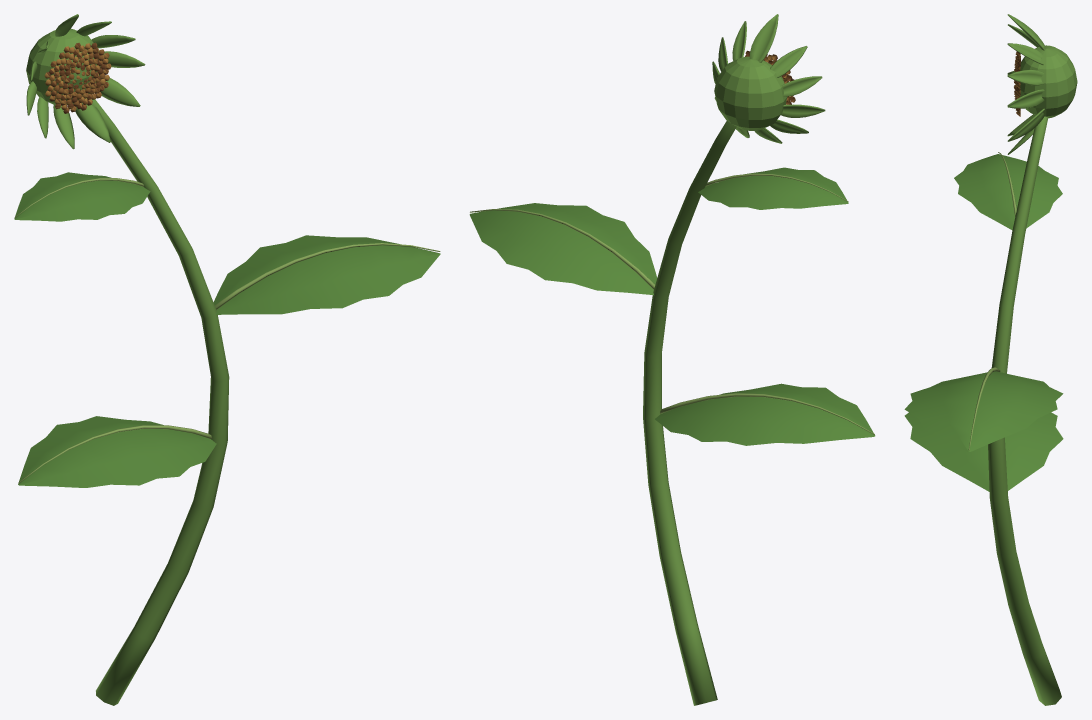
File: sunflower-v2-bud-3.glb
The picture shows the model from 3 angles, left to right: view 1: azimuth 30°, elevation 25°; view 2: azimuth 150°, elevation 25°; view 3: azimuth 270°, elevation 25°; orthographic projection. The views are drawn at different scales.
Visible parts, largest first — view 1: Curved tapered stem; view 2: Curved tapered stem; view 3: Curved tapered stem.
Boxes of the visible parts, bbox=[...] form: Curved tapered stem: bbox=[14, 14, 440, 705]; Curved tapered stem: bbox=[469, 14, 875, 705]; Curved tapered stem: bbox=[904, 14, 1077, 705].
Size of the model in its own units: 0.3326 by 0.5416 by 0.1279.
